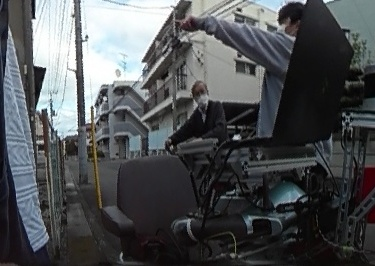person: (167, 75, 226, 137)
